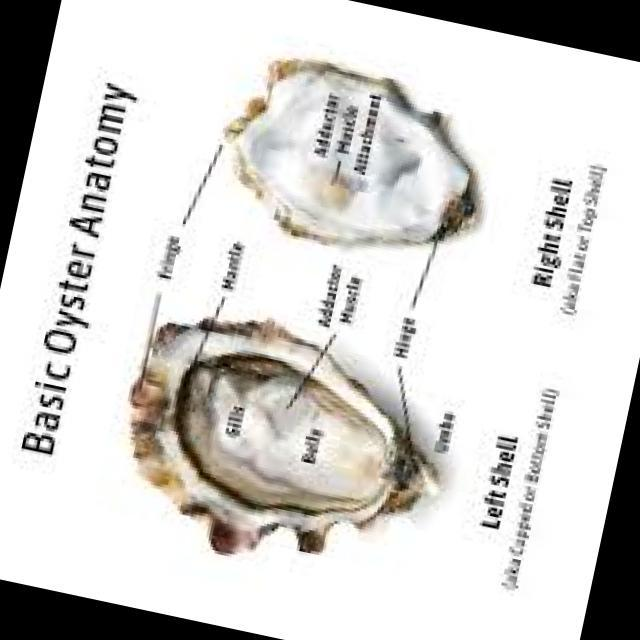Oyster-Open: (131, 318, 435, 553), (225, 60, 479, 261)
